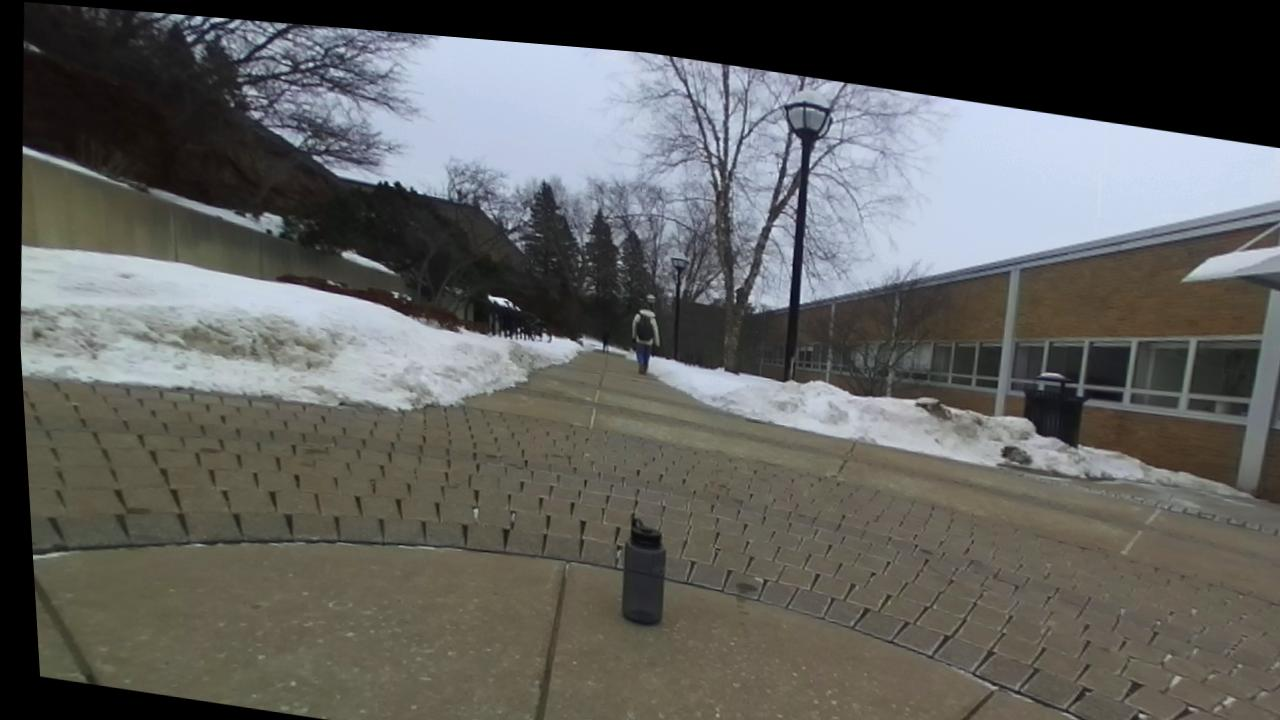bottle: (621, 516, 666, 624)
